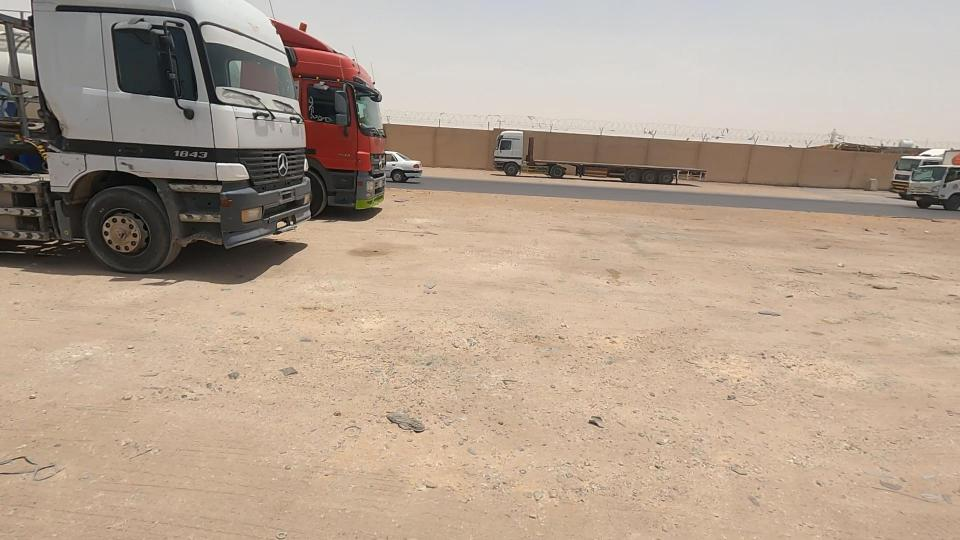CONSTRUCTION_ROAD: (402, 84, 960, 540), (151, 87, 657, 540)
